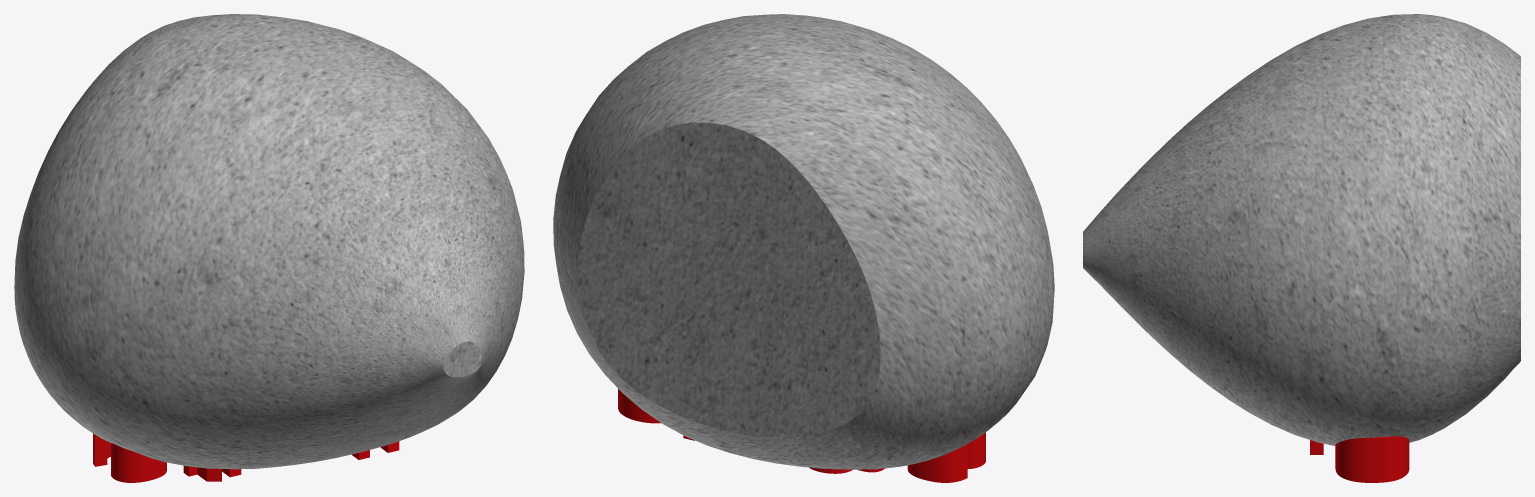
File: studioRock.obj
3 views of the same model, side by side, from view 1: azimuth 30°, elevation 25°; view 2: azimuth 150°, elevation 25°; view 3: azimuth 270°, elevation 25° (orthographic). The views are drawn at different scales.
Visible parts, largest first — view 1: object_8, object_4; view 2: object_8, object_4, object_5; view 3: object_8, object_5.
Part boxes in pixels (box(x1,y1,x2,y2)): object_8: box(14, 14, 524, 469); object_4: box(93, 433, 166, 482); object_8: box(553, 14, 1054, 469); object_4: box(907, 432, 985, 482); object_5: box(618, 389, 660, 423); object_8: box(1083, 14, 1520, 445); object_5: box(1335, 436, 1409, 482).
Bounding box in the file's own units: 3.33 × 2.85 × 3.05.
2 materials, 1 textured.
